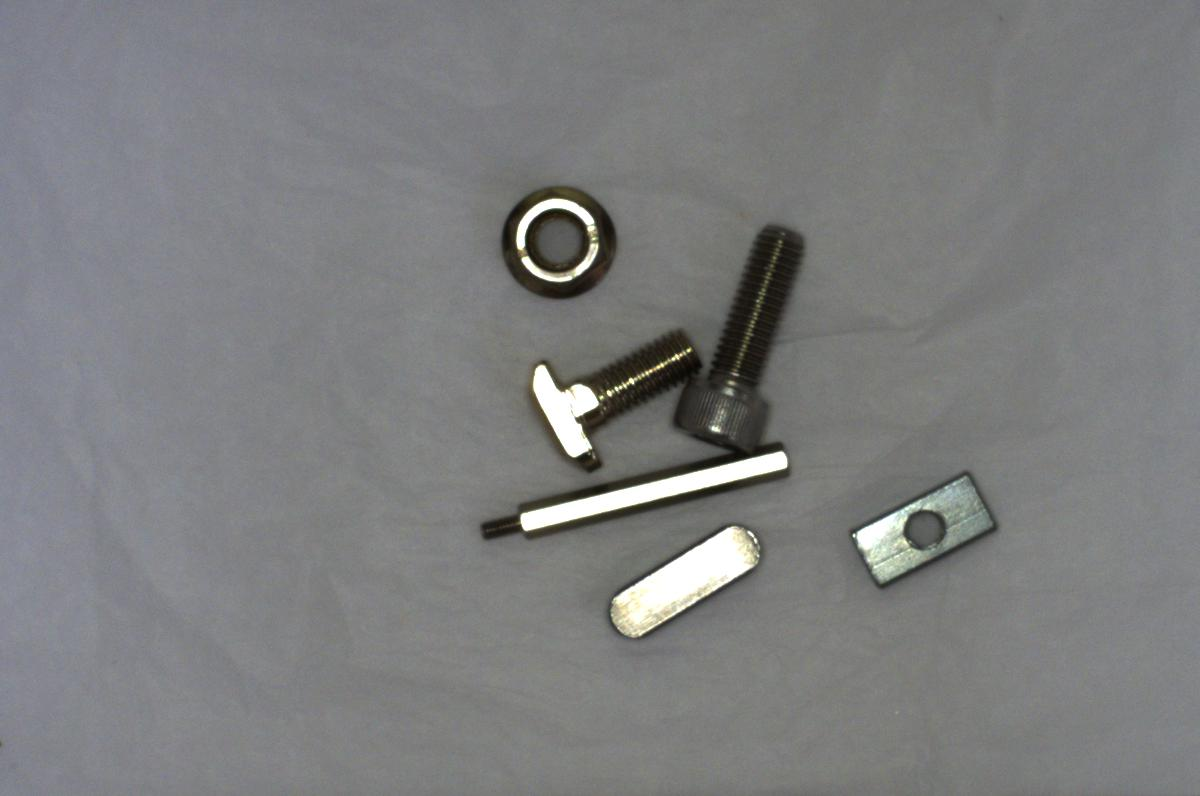Flange nut: (491, 176, 629, 310)
Hexagon screw: (648, 214, 812, 450)
Hexagonal steel column: (474, 439, 805, 549)
Keybar: (603, 518, 766, 648)
Rectangular nut: (842, 459, 1012, 594)
T-shaped screw: (520, 327, 710, 472)
